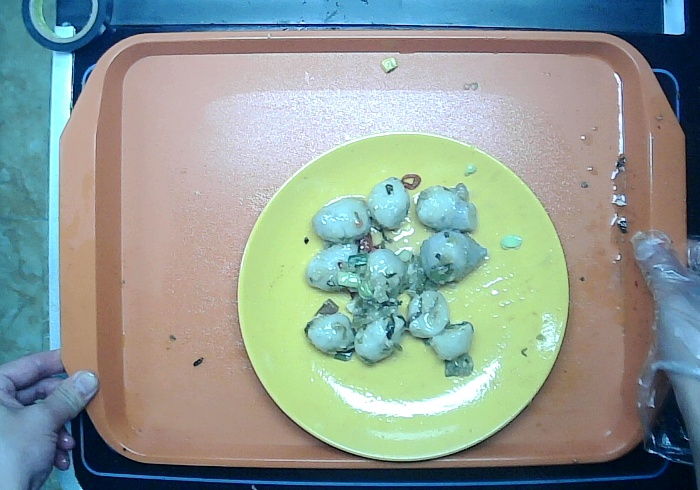HZYJPL-Huang_Se_Yuan_Pan: (233, 134, 569, 462)
